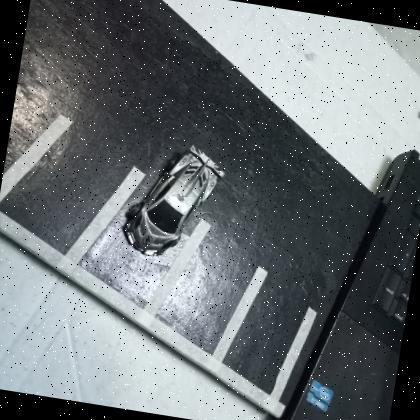Car: (123, 146, 223, 255)
